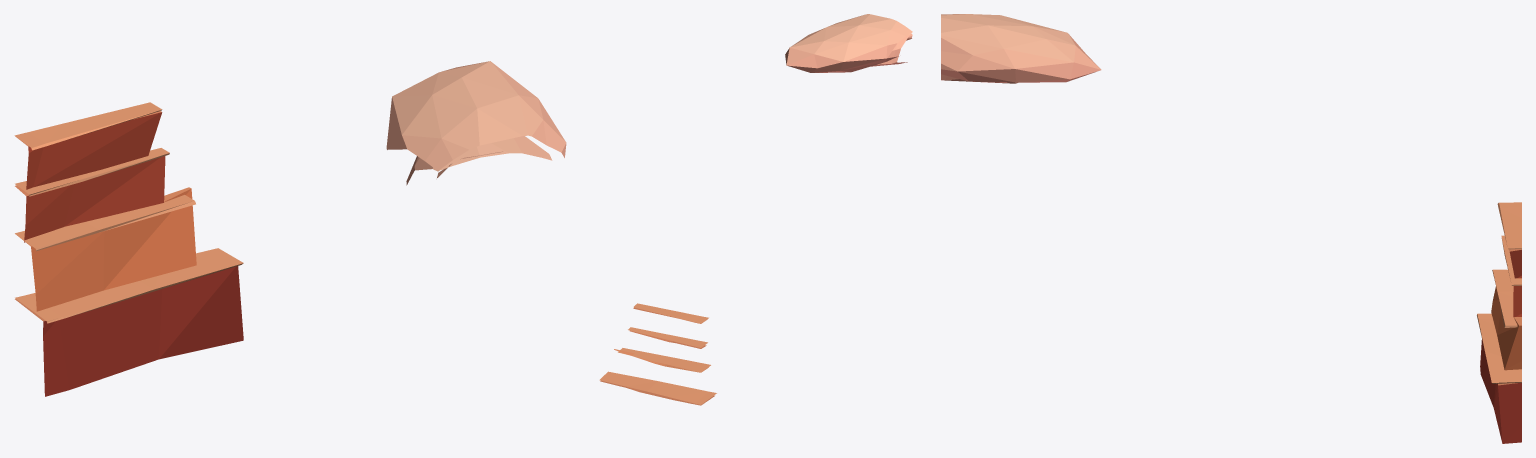
The picture shows the model from 3 angles, left to right: view 1: azimuth 30°, elevation 25°; view 2: azimuth 150°, elevation 25°; view 3: azimuth 270°, elevation 25°; orthographic projection. The views are drawn at different scales.
Visible parts, largest first — view 1: scene.7.4 (×2); view 2: scene.7.4 (×2); view 3: scene.7.4 (×2).
Boxes of the visible parts, <box> form: scene.7.4 (×2): <box>14,61,566,396</box>; scene.7.4 (×2): <box>599,14,912,405</box>; scene.7.4 (×2): <box>941,14,1521,443</box>.
Bounding box in the file's own units: 18.34 × 44.1 × 62.5.
